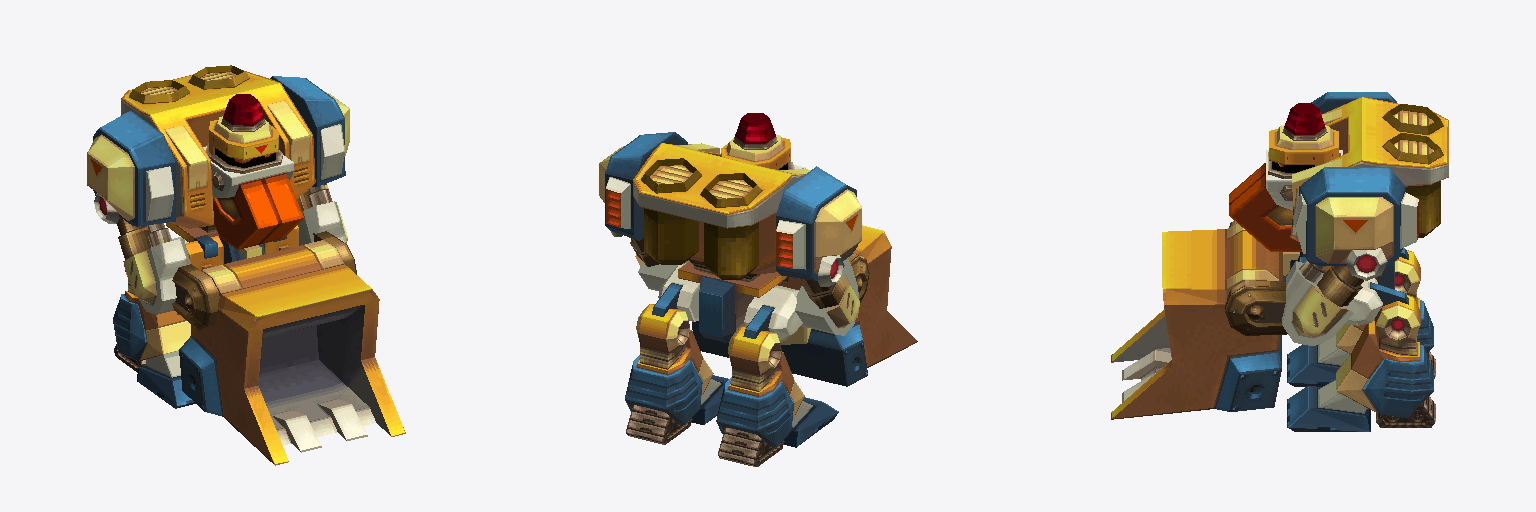
The picture shows the model from 3 angles: view 1: azimuth 30°, elevation 25°; view 2: azimuth 150°, elevation 25°; view 3: azimuth 270°, elevation 25°; orthographic projection.
Parts seen in each view (by area): view 1: submesh3; view 2: submesh3; view 3: submesh3.
Boxes of the visible parts, x1,y1,x2,y2 form: submesh3: [87, 65, 405, 465]; submesh3: [599, 113, 917, 466]; submesh3: [1111, 92, 1448, 431].
Bounding box in the file's own units: 24.52 × 28.38 × 29.51.
2 materials, 1 textured.